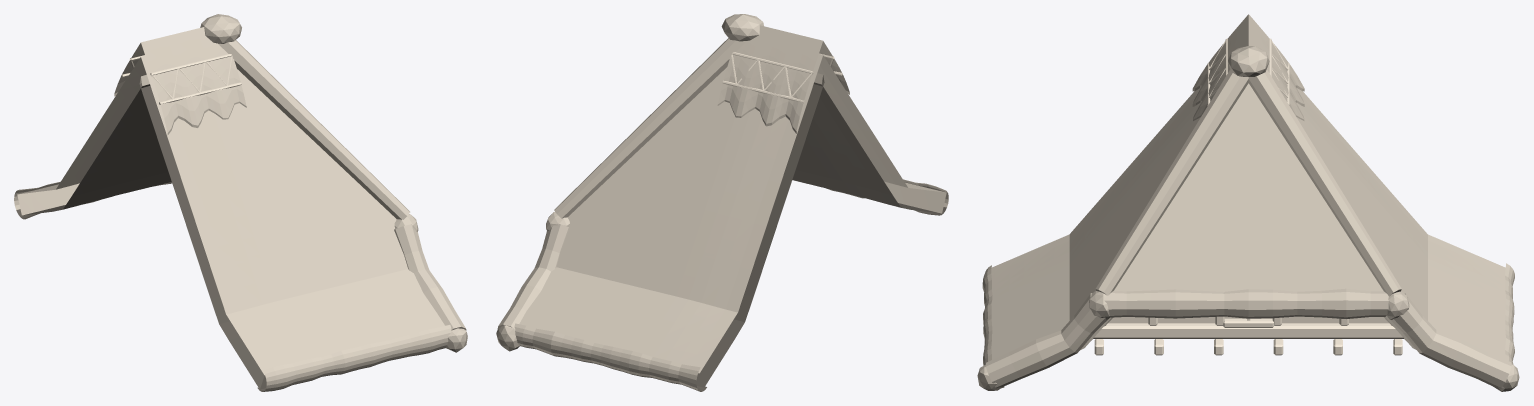
The model's file is SM_VK_RoofThatch_HalfHip.fbx.
3 renders of one model, left to right at view 1: azimuth 30°, elevation 25°; view 2: azimuth 150°, elevation 25°; view 3: azimuth 270°, elevation 25°, orthographic. The views are drawn at different scales.
Visible parts, largest first — view 1: SM_VK_RoofThatch_HalfHip.001; view 2: SM_VK_RoofThatch_HalfHip.001; view 3: SM_VK_RoofThatch_HalfHip.001.
Part boxes in pixels (left/top/right/bottom): SM_VK_RoofThatch_HalfHip.001: left=14, top=14, right=467, bottom=391; SM_VK_RoofThatch_HalfHip.001: left=496, top=14, right=948, bottom=391; SM_VK_RoofThatch_HalfHip.001: left=977, top=14, right=1519, bottom=391.
Bounding box in the file's own units: 4.22 × 5.28 × 9.08.
